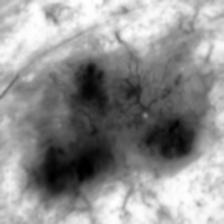Potentially Malignant Skin Tumors: (23, 57, 206, 204)
